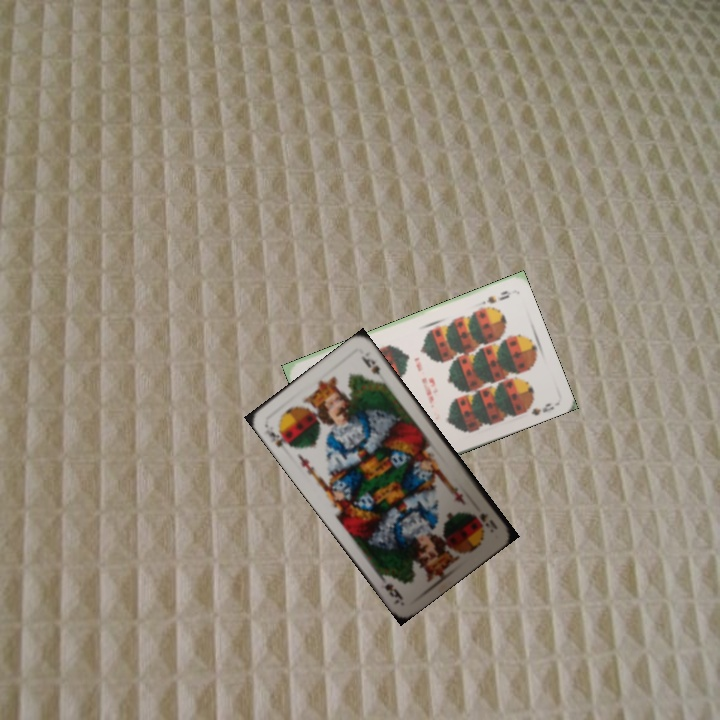S9: (483, 286, 512, 306)
SK: (264, 425, 294, 450), (475, 509, 501, 532)
